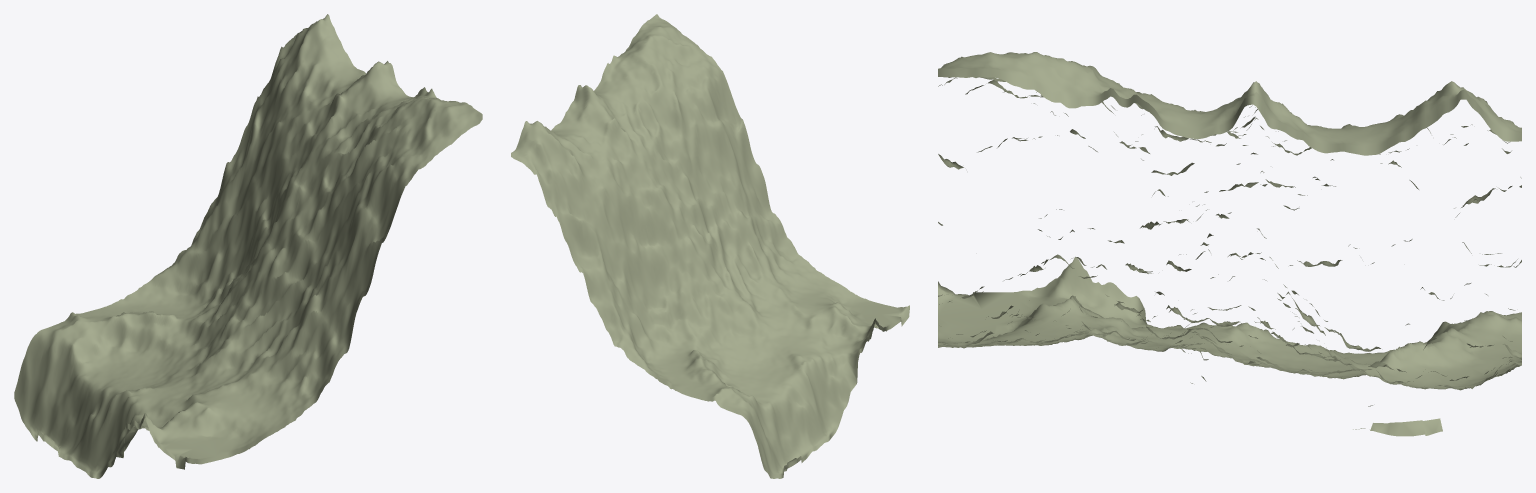
Rendered from terrain_r1_c3_lod0.glb.
3 renders of one model, left to right at view 1: azimuth 30°, elevation 25°; view 2: azimuth 150°, elevation 25°; view 3: azimuth 270°, elevation 25°, orthographic. The views are drawn at different scales.
Visible parts, largest first — view 1: terrain_r1_c3; view 2: terrain_r1_c3; view 3: terrain_r1_c3.
Boxes of the visible parts, x1,y1,x2,y2 form: terrain_r1_c3: (14,14,482,478); terrain_r1_c3: (511,14,909,478); terrain_r1_c3: (938,52,1521,436).
Size of the model in its own units: 50 by 58.59 by 50.
